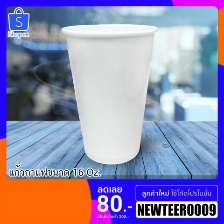paper_cup: (56, 19, 162, 167)
